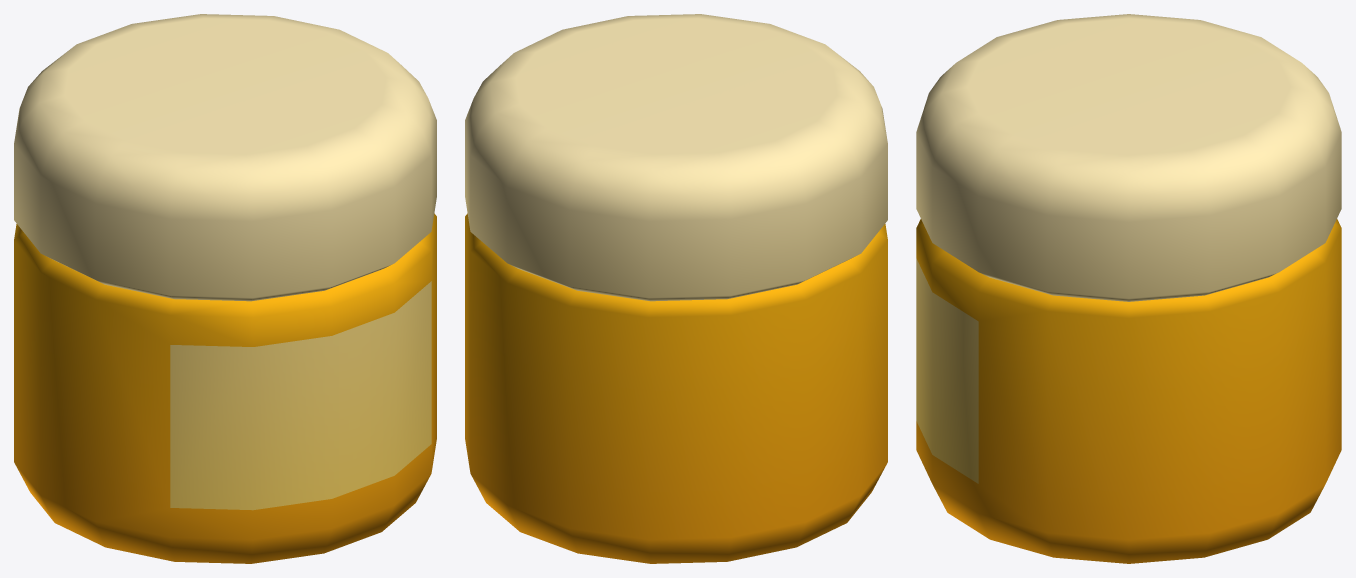
File: Cream_04.glb
3 renders of one model, left to right at view 1: azimuth 30°, elevation 25°; view 2: azimuth 150°, elevation 25°; view 3: azimuth 270°, elevation 25°, orthographic.
Parts seen in each view (by area): view 1: Cream_04; view 2: Cream_04; view 3: Cream_04.
Part boxes in pixels (left/top/right/bottom): Cream_04: left=14, top=14, right=436, bottom=563; Cream_04: left=465, top=14, right=887, bottom=563; Cream_04: left=916, top=14, right=1341, bottom=563.
Bounding box in the file's own units: 0.1085 × 0.1148 × 0.1085.
1 material, 1 textured.
